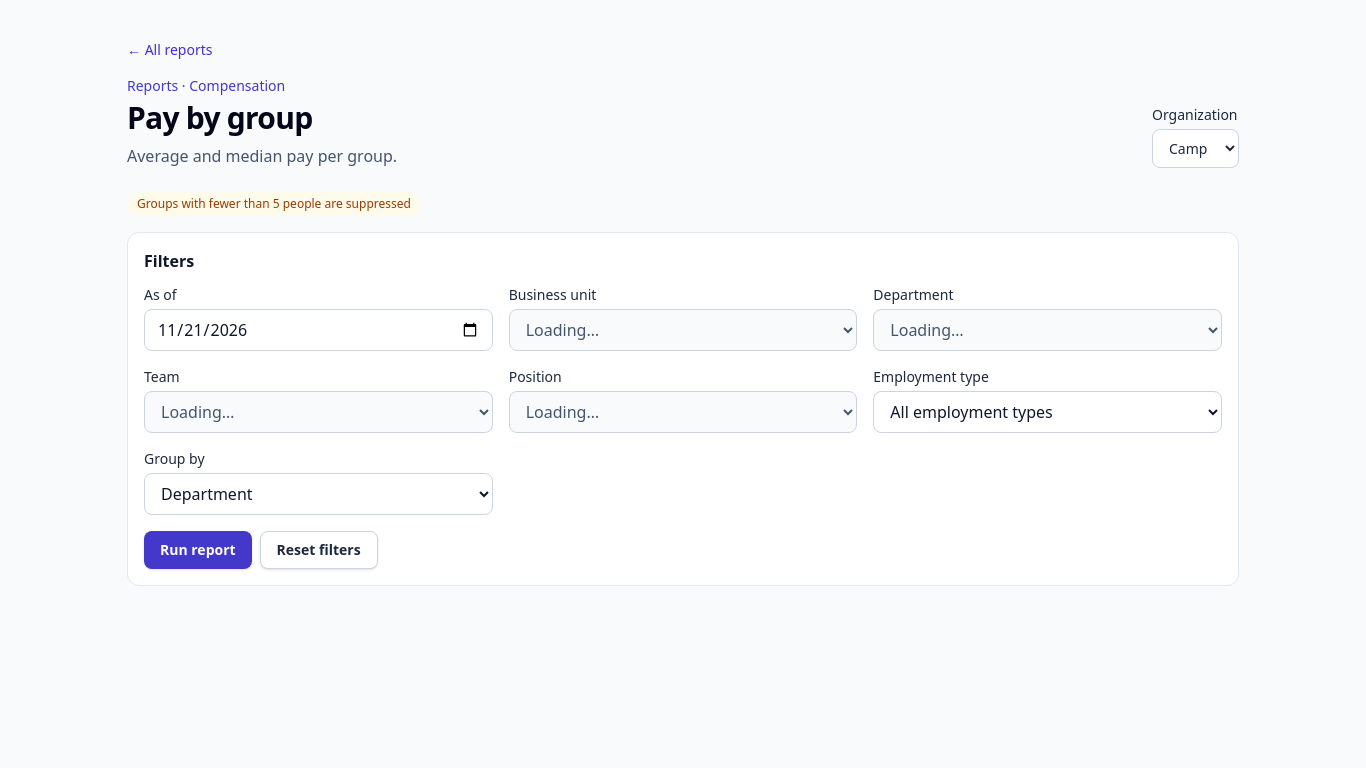
ReportPage › renders suppressed groups, the scope limits and notes
The image size is (1366, 768).
Expected: the form named "Report filters" is shown, left=144, top=285, right=1222, bottom=569
Expected: the text "Groups with fewer than 5 people are suppressed" is shown, left=127, top=192, right=421, bottom=216
Click the button "Run report": coordinates (198, 550) left=144, top=531, right=252, bottom=569
(page scrolled)
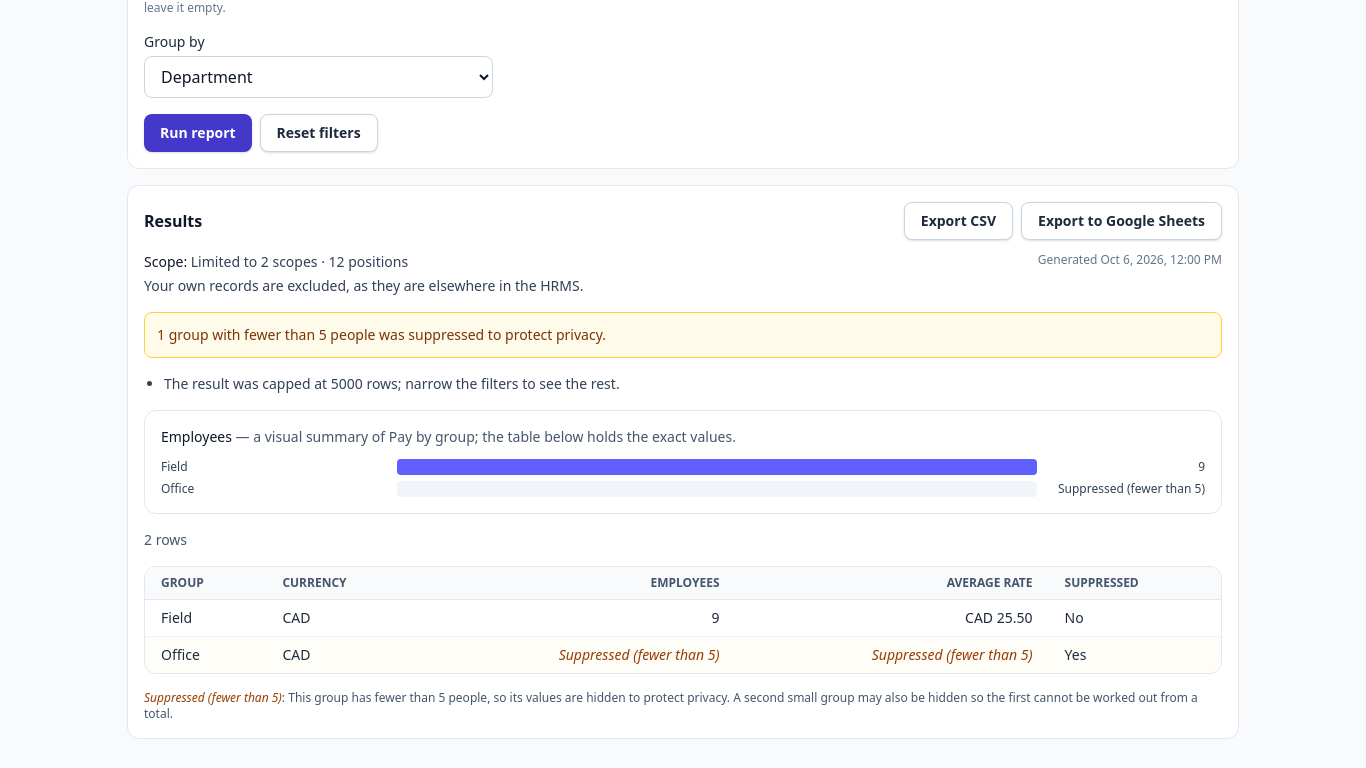
Expected: the cell "CAD 25.50" is shown, left=736, top=600, right=1048, bottom=636
Expected: the text "Suppressed (fewer than 5)" is shown 2 times, left=559, top=645, right=720, bottom=664; left=872, top=645, right=1032, bottom=664
Expected: the text "1 group with fewer than 5 people was suppressed to protect privacy." is shown, left=144, top=312, right=1222, bottom=358
